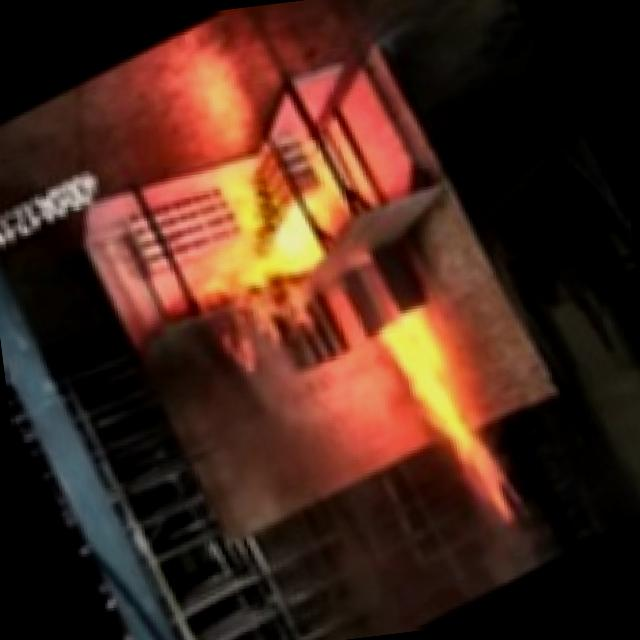fire: (322, 243, 572, 587), (133, 106, 401, 376)
